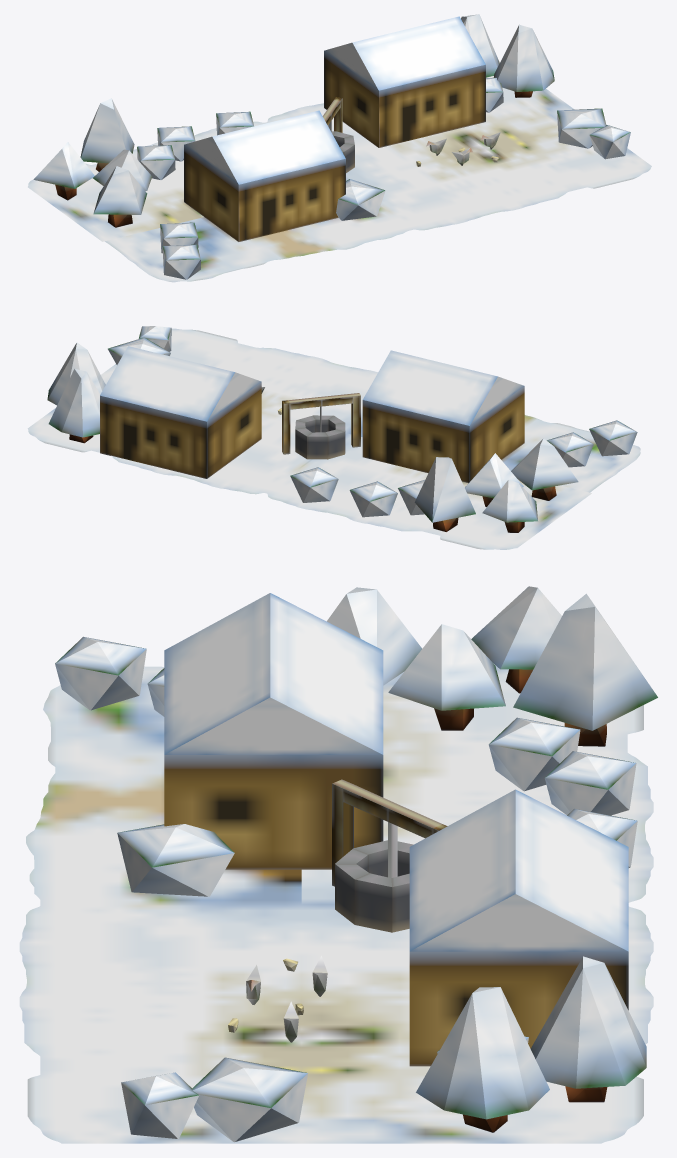
The model's file is Poly_World_Map_Town_House_08_Snow.obj.
3 views of the same model, one above another, from view 1: azimuth 30°, elevation 25°; view 2: azimuth 150°, elevation 25°; view 3: azimuth 270°, elevation 25° (orthographic). The views are drawn at different scales.
Parts seen in each view (by area): view 1: Plane_Plane.003, Cube.001_Cube.001_Cube.001_Cube.004, Cube.002_Cube.003_Cube.002_Cube.009, Cube.002_Cube.002_Cube.002_Cube.010, chickens_Cube.004, Cube.003_Cube.004_Cube.003_Cube.003, Cube.004_Cube.005_Cube.004_Cube.003; view 2: Plane_Plane.003, Cube.001_Cube.001_Cube.001_Cube.004, Cube.002_Cube.002_Cube.002_Cube.010, Cube.002_Cube.003_Cube.002_Cube.009, Cube.003_Cube.004_Cube.003_Cube.003, Cube.004_Cube.005_Cube.004_Cube.003; view 3: Plane_Plane.003, Cube.001_Cube.001_Cube.001_Cube.004, Cube.002_Cube.003_Cube.002_Cube.009, Cube.002_Cube.002_Cube.002_Cube.010, Cube.003_Cube.004_Cube.003_Cube.003, Cube.004_Cube.005_Cube.004_Cube.003, chickens_Cube.004.
Part boxes in pixels (left/top/right/bottom): Plane_Plane.003: left=28, top=76, right=651, bottom=282; Cube.001_Cube.001_Cube.001_Cube.004: left=33, top=14, right=630, bottom=279; Cube.002_Cube.003_Cube.002_Cube.009: left=184, top=110, right=345, bottom=241; Cube.002_Cube.002_Cube.002_Cube.010: left=324, top=16, right=485, bottom=147; chickens_Cube.004: left=426, top=132, right=500, bottom=165; Cube.003_Cube.004_Cube.003_Cube.003: left=331, top=131, right=354, bottom=172; Cube.004_Cube.005_Cube.004_Cube.003: left=322, top=97, right=342, bottom=132; Plane_Plane.003: left=27, top=328, right=640, bottom=549; Cube.001_Cube.001_Cube.001_Cube.004: left=47, top=326, right=637, bottom=532; Cube.002_Cube.002_Cube.002_Cube.010: left=100, top=346, right=261, bottom=478; Cube.002_Cube.003_Cube.002_Cube.009: left=362, top=350, right=524, bottom=482; Cube.003_Cube.004_Cube.003_Cube.003: left=295, top=415, right=345, bottom=459; Cube.004_Cube.005_Cube.004_Cube.003: left=282, top=393, right=360, bottom=454; Plane_Plane.003: left=19, top=665, right=653, bottom=1143; Cube.001_Cube.001_Cube.001_Cube.004: left=55, top=586, right=657, bottom=1142; Cube.002_Cube.003_Cube.002_Cube.009: left=164, top=593, right=383, bottom=869; Cube.002_Cube.002_Cube.002_Cube.010: left=409, top=789, right=628, bottom=1066; Cube.003_Cube.004_Cube.003_Cube.003: left=335, top=840, right=413, bottom=932; Cube.004_Cube.005_Cube.004_Cube.003: left=332, top=779, right=447, bottom=886; chickens_Cube.004: left=246, top=956, right=327, bottom=1042.
Bounding box in the file's own units: 1.65 × 0.2708 × 0.9046.
Materials: 1 (1 with a texture image).
